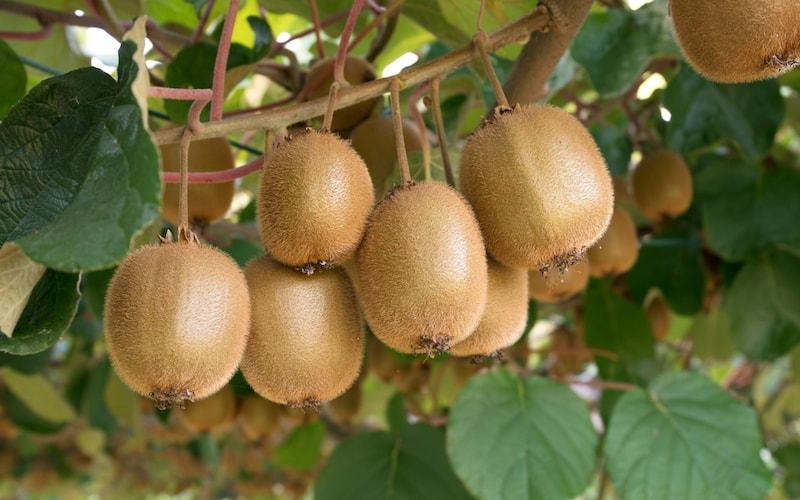kiwi: (448, 98, 622, 287), (97, 234, 251, 410), (358, 177, 494, 358), (236, 252, 370, 415), (245, 124, 377, 273)
